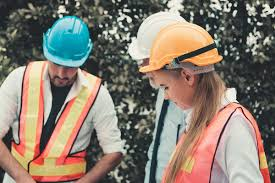Person_wearing_helmet: (143, 18, 220, 95), (37, 13, 97, 68)
